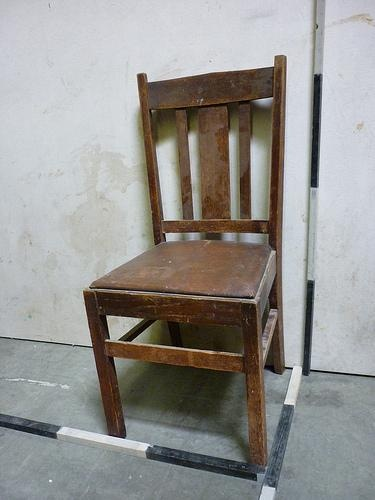obstacle: (84, 55, 285, 464)
